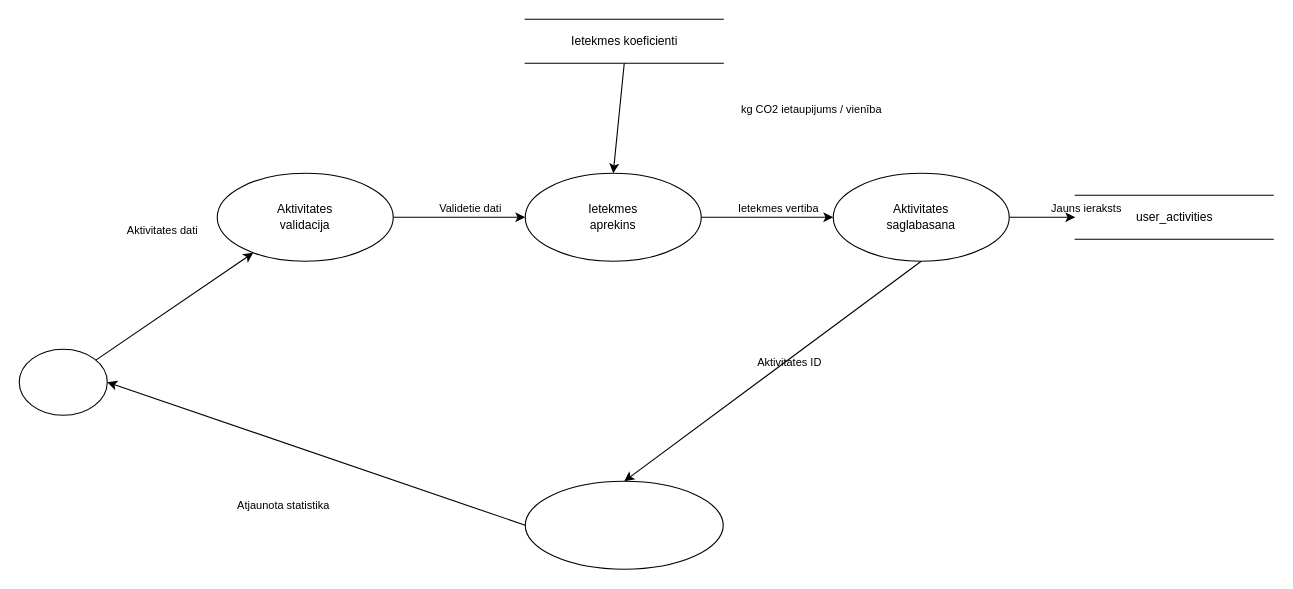
This 1293x589 diagram has some shape labels left out. Each missing label, with the centre of its shape:
"Kopejas ietekmes summesana" goes at point 623,524.
"Lietotajs" goes at point 62,381.
